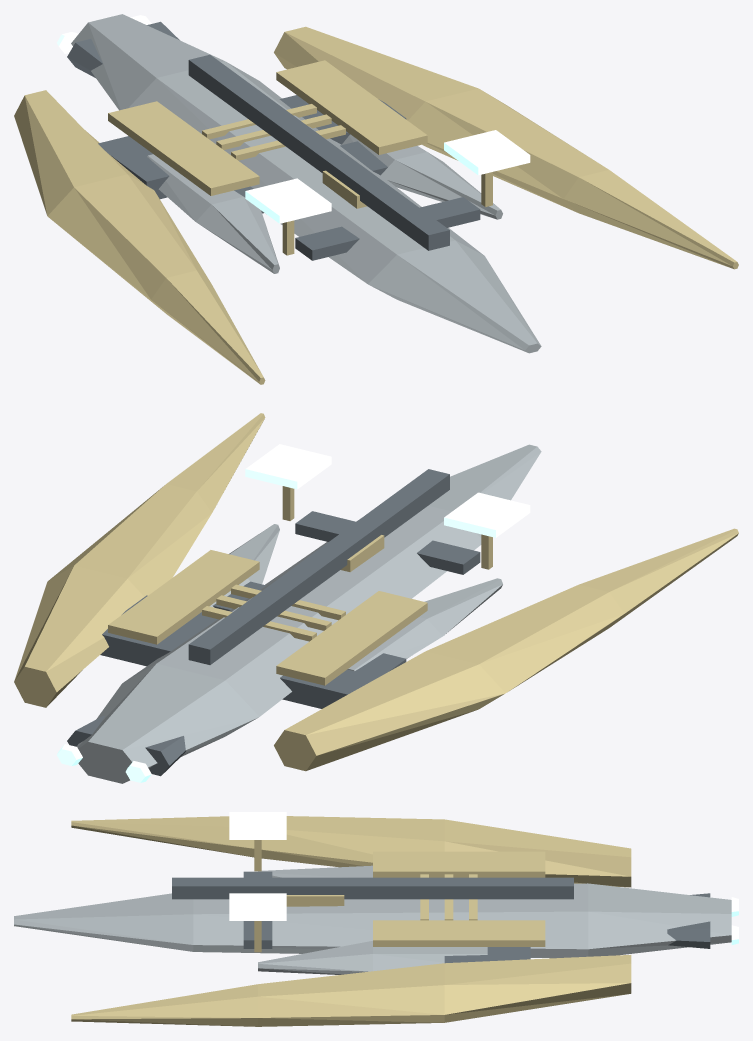
3 renders of one model, top to bottom at view 1: azimuth 30°, elevation 25°; view 2: azimuth 150°, elevation 25°; view 3: azimuth 270°, elevation 25°, orthographic. The views are drawn at different scales.
Bounding box in the file's own units: 6.41 × 1.24 × 10.
